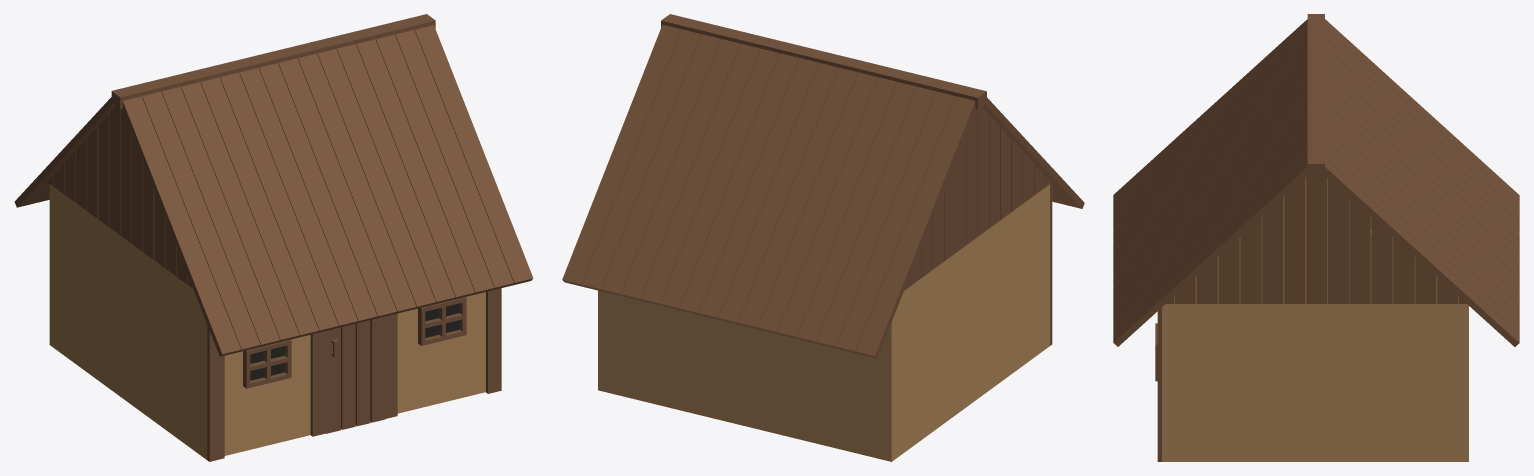
The model's file is interior_updated.fbx.
3 renders of one model, left to right at view 1: azimuth 30°, elevation 25°; view 2: azimuth 150°, elevation 25°; view 3: azimuth 270°, elevation 25°, orthographic. The views are drawn at different scales.
Parts seen in each view (by area): view 1: House, Door; view 2: House; view 3: House.
Boxes of the visible parts, x1,y1,x2,y2 form: House: (14, 14, 533, 461); Door: (326, 316, 385, 433); House: (562, 14, 1084, 461); House: (1113, 14, 1519, 461).
Bounding box in the file's own units: 1619 × 1528 × 1852.
